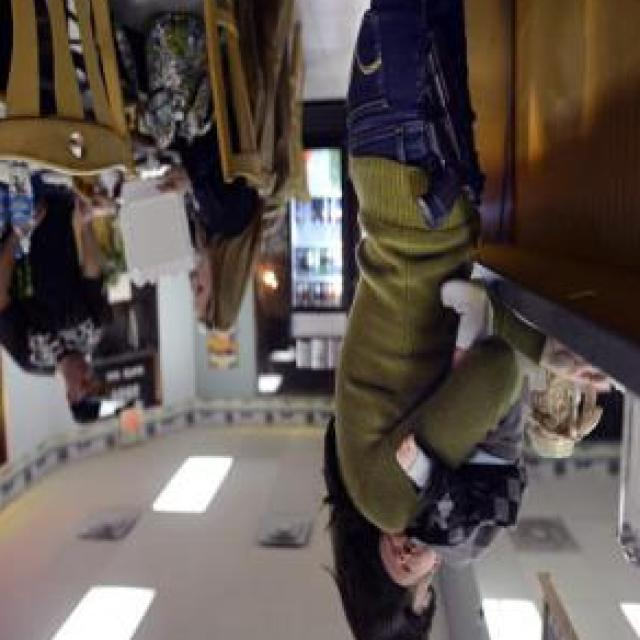pistol: (414, 28, 487, 235)
